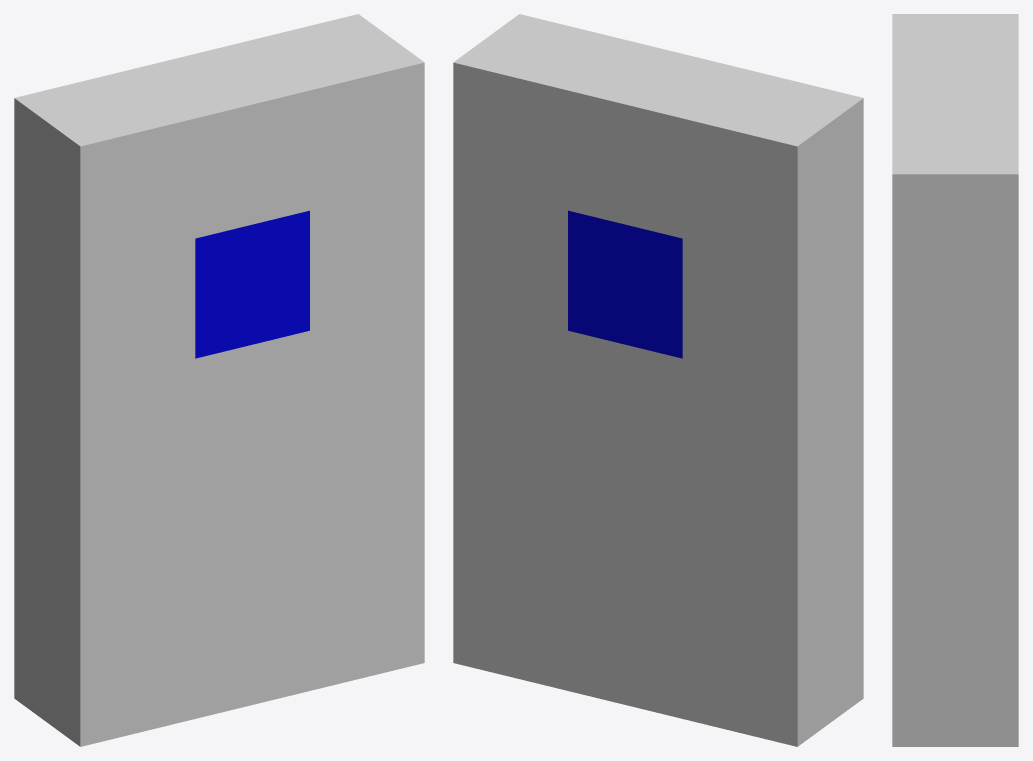
Rendered from ToiletDoor.obj.
3 views of the same model, side by side, from view 1: azimuth 30°, elevation 25°; view 2: azimuth 150°, elevation 25°; view 3: azimuth 270°, elevation 25° (orthographic). The views are drawn at different scales.
Size of the model in its own units: 0.3 by 0.5 by 0.1.
Materials: 1 (1 with a texture image).
